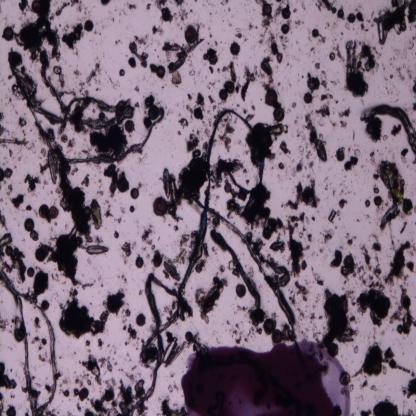Background material: (57, 164, 94, 244), (56, 284, 104, 338), (12, 14, 64, 63), (42, 229, 83, 289), (243, 183, 286, 235), (7, 49, 40, 108), (84, 381, 136, 416), (342, 38, 370, 98), (281, 173, 321, 210), (165, 37, 205, 74), (373, 160, 405, 206), (196, 276, 228, 322), (388, 284, 416, 336), (285, 220, 309, 280), (355, 288, 391, 328), (177, 154, 208, 200), (245, 121, 274, 168), (302, 112, 328, 164), (209, 156, 245, 190), (0, 242, 29, 284), (384, 241, 411, 286), (384, 0, 408, 36), (166, 175, 184, 222), (323, 286, 349, 318), (362, 340, 384, 374), (61, 19, 84, 50), (102, 287, 127, 315), (81, 353, 102, 386), (128, 35, 148, 69), (377, 204, 400, 232), (358, 41, 376, 75), (227, 187, 246, 219), (372, 394, 399, 416), (260, 54, 276, 91), (106, 163, 122, 198), (218, 118, 236, 149), (136, 341, 158, 366), (32, 268, 48, 301), (158, 398, 187, 416), (89, 197, 104, 230), (116, 98, 136, 122), (0, 362, 17, 390), (86, 60, 103, 84), (162, 261, 180, 283), (366, 118, 382, 142), (264, 30, 279, 55), (161, 41, 180, 60), (318, 226, 336, 246), (221, 60, 238, 81), (139, 222, 154, 245), (24, 173, 40, 194), (401, 377, 416, 399), (201, 48, 219, 66), (295, 280, 309, 303), (280, 322, 296, 342), (0, 137, 29, 148), (162, 298, 177, 318), (330, 249, 344, 270), (306, 71, 320, 92), (342, 261, 358, 279), (288, 213, 310, 226), (309, 266, 324, 285), (185, 131, 200, 150), (360, 243, 371, 268), (344, 155, 361, 171), (55, 0, 71, 17), (271, 240, 288, 256), (159, 7, 174, 25), (173, 247, 187, 266), (40, 50, 51, 74), (54, 64, 65, 88), (369, 233, 382, 253), (134, 379, 147, 399), (245, 325, 261, 341), (0, 317, 14, 335), (400, 41, 414, 59), (240, 80, 251, 102), (121, 240, 133, 260), (200, 243, 210, 266), (11, 193, 25, 209), (382, 346, 395, 363), (104, 198, 114, 219), (121, 369, 136, 383), (261, 13, 272, 32), (389, 122, 402, 138), (368, 280, 385, 292), (77, 80, 89, 97), (152, 250, 162, 270), (286, 286, 296, 306), (316, 104, 330, 118), (75, 371, 88, 386), (143, 92, 156, 107), (80, 278, 96, 290), (195, 92, 205, 111), (272, 3, 282, 22), (127, 323, 138, 340), (172, 70, 183, 87), (294, 126, 307, 140), (108, 75, 120, 90), (254, 237, 265, 253), (18, 0, 29, 16), (12, 326, 24, 340), (297, 306, 308, 321), (121, 308, 132, 323), (336, 44, 345, 62), (0, 213, 9, 231), (346, 290, 356, 306), (373, 264, 383, 280), (280, 140, 291, 154), (399, 147, 408, 164), (368, 150, 377, 167), (280, 34, 290, 49), (37, 354, 52, 364), (347, 325, 359, 337), (352, 366, 364, 378), (296, 157, 305, 173), (152, 24, 164, 36), (320, 93, 333, 104), (178, 234, 191, 245), (38, 162, 49, 175), (127, 55, 137, 69), (154, 0, 168, 10), (178, 8, 188, 22), (80, 173, 90, 187), (84, 6, 93, 21), (339, 106, 350, 118), (192, 148, 204, 159), (322, 0, 334, 11), (397, 364, 410, 374), (0, 123, 10, 136), (406, 260, 416, 273), (158, 106, 166, 122), (44, 408, 60, 416), (186, 103, 194, 119), (398, 408, 414, 416), (118, 270, 127, 284), (106, 355, 113, 373), (196, 22, 202, 43), (67, 136, 76, 150), (0, 391, 5, 416), (26, 142, 37, 153), (243, 65, 254, 76), (48, 128, 56, 143), (360, 108, 368, 123), (178, 118, 190, 128), (358, 274, 368, 286), (30, 230, 40, 242), (372, 46, 381, 59), (258, 31, 266, 45), (191, 230, 198, 246), (398, 67, 406, 81), (6, 183, 14, 197), (138, 405, 148, 416), (354, 11, 364, 22), (30, 389, 40, 400), (398, 210, 407, 222), (329, 208, 336, 223), (400, 220, 408, 233), (300, 331, 310, 341), (59, 378, 69, 388), (92, 164, 102, 174), (403, 106, 413, 116), (34, 318, 43, 329), (97, 337, 104, 351), (166, 381, 174, 393), (99, 357, 107, 369), (312, 331, 320, 343), (57, 300, 65, 312), (322, 79, 330, 91), (235, 304, 248, 311), (76, 0, 83, 13), (407, 14, 416, 24), (294, 18, 304, 27), (95, 235, 104, 245), (339, 119, 348, 129), (72, 68, 82, 77), (52, 272, 61, 282), (44, 384, 54, 393), (126, 2, 137, 10), (356, 266, 367, 274), (310, 321, 318, 332), (309, 311, 316, 323), (316, 0, 323, 12), (20, 116, 27, 128), (235, 80, 241, 94), (409, 244, 416, 256), (298, 144, 305, 156), (390, 239, 396, 253), (375, 205, 384, 214), (31, 336, 40, 345), (96, 188, 105, 197), (329, 119, 338, 128), (339, 199, 347, 209), (412, 78, 416, 98), (319, 34, 327, 44), (71, 166, 79, 176), (0, 166, 5, 182), (389, 359, 397, 369), (349, 314, 357, 324), (206, 81, 216, 89), (315, 292, 321, 305), (99, 0, 112, 6), (407, 68, 413, 81), (360, 409, 371, 416), (40, 146, 46, 158), (353, 148, 362, 156), (283, 0, 292, 8), (76, 400, 82, 412), (360, 380, 368, 389), (188, 68, 197, 76), (137, 180, 146, 188), (219, 263, 226, 273), (389, 226, 394, 240), (324, 176, 329, 190), (174, 0, 184, 7), (167, 332, 174, 342), (173, 12, 179, 23), (203, 141, 209, 152), (255, 0, 266, 6), (300, 262, 308, 270), (370, 384, 378, 392), (360, 23, 368, 31), (373, 326, 377, 342), (246, 114, 254, 122), (308, 26, 312, 42), (270, 311, 278, 319), (389, 57, 396, 66), (207, 66, 214, 75), (282, 124, 288, 134), (280, 161, 286, 171), (207, 117, 213, 127), (309, 160, 314, 172), (131, 240, 137, 250), (319, 117, 325, 127), (306, 150, 312, 160), (331, 78, 338, 86), (235, 32, 242, 40), (119, 8, 126, 16), (403, 274, 410, 282), (208, 95, 215, 103), (394, 47, 401, 55), (230, 54, 238, 61), (235, 336, 242, 344), (119, 207, 126, 215), (26, 204, 33, 212), (301, 0, 306, 11), (347, 238, 353, 247), (168, 107, 174, 116), (353, 345, 359, 354), (324, 21, 330, 30), (248, 22, 254, 31), (220, 0, 229, 6), (210, 245, 216, 254), (70, 0, 79, 6), (388, 293, 397, 299), (346, 143, 351, 153), (382, 365, 387, 375), (386, 191, 391, 201), (35, 381, 42, 388), (114, 38, 120, 46), (340, 180, 346, 188), (230, 329, 238, 335), (74, 389, 80, 397), (360, 98, 366, 106), (146, 2, 152, 10), (33, 209, 39, 217), (315, 62, 321, 70), (41, 337, 47, 345), (350, 383, 355, 392), (205, 127, 210, 136), (254, 65, 258, 76), (375, 62, 379, 73), (235, 27, 242, 33), (94, 30, 101, 36), (394, 98, 401, 104), (46, 217, 52, 224), (135, 101, 141, 108), (30, 374, 36, 381), (212, 103, 218, 110), (120, 68, 124, 78), (174, 224, 179, 232), (337, 146, 345, 151), (374, 186, 379, 194), (381, 63, 386, 71), (339, 242, 344, 250), (0, 112, 5, 120), (135, 86, 140, 94), (217, 101, 225, 106), (243, 107, 248, 115), (8, 149, 13, 157), (368, 273, 373, 281), (374, 255, 379, 263), (308, 234, 313, 242), (234, 115, 239, 123), (241, 38, 249, 43), (56, 372, 61, 380), (412, 101, 416, 111), (116, 217, 122, 223), (367, 265, 373, 271), (49, 14, 55, 20), (370, 10, 374, 19), (380, 330, 386, 336), (64, 390, 70, 396), (186, 94, 192, 100), (389, 73, 394, 80), (174, 384, 179, 391), (67, 411, 74, 416), (321, 70, 326, 77), (150, 39, 155, 46), (53, 220, 58, 227), (85, 339, 90, 346), (332, 190, 336, 198), (189, 58, 193, 66), (22, 128, 26, 136), (346, 22, 350, 30), (245, 177, 249, 185), (58, 354, 63, 360), (151, 244, 156, 250), (310, 46, 315, 52), (10, 394, 16, 399), (383, 135, 388, 141), (383, 75, 388, 81), (206, 108, 211, 114), (16, 157, 22, 162), (292, 7, 297, 13), (43, 180, 48, 186), (291, 102, 296, 108), (37, 346, 43, 351), (214, 41, 219, 47), (140, 289, 144, 296), (346, 231, 350, 238), (312, 250, 316, 257), (251, 105, 255, 112), (337, 210, 341, 217), (412, 371, 416, 378), (322, 324, 326, 331), (207, 3, 214, 7), (304, 304, 309, 309), (244, 150, 249, 155), (352, 235, 357, 240), (235, 103, 240, 108), (105, 344, 110, 349), (306, 279, 309, 287), (366, 214, 370, 220), (413, 156, 416, 164), (318, 315, 322, 321), (413, 205, 416, 213), (88, 378, 91, 386), (287, 108, 291, 114), (378, 10, 382, 16), (238, 139, 242, 145), (288, 81, 292, 87), (100, 282, 104, 288), (286, 61, 290, 67), (178, 130, 182, 136), (202, 120, 206, 126), (145, 32, 149, 38), (142, 246, 146, 252), (123, 324, 127, 330), (202, 22, 206, 28), (125, 340, 129, 346), (373, 18, 377, 24), (353, 130, 355, 141), (102, 23, 105, 30), (348, 252, 352, 257), (340, 189, 344, 194), (356, 217, 360, 222), (339, 31, 344, 35), (277, 82, 281, 87), (14, 110, 18, 115), (388, 287, 392, 292), (344, 280, 348, 285), (141, 340, 146, 344), (336, 99, 340, 104), (78, 359, 82, 364), (50, 190, 54, 195), (235, 323, 240, 327), (228, 22, 232, 27), (332, 45, 336, 50), (303, 227, 307, 232), (294, 120, 299, 124), (412, 35, 416, 40), (209, 33, 212, 39), (242, 170, 248, 173), (76, 50, 79, 56), (102, 52, 105, 58), (218, 68, 221, 74), (115, 360, 118, 366), (112, 17, 115, 23), (114, 8, 118, 12), (13, 164, 17, 168), (87, 349, 91, 353), (348, 190, 352, 194), (296, 40, 300, 44), (0, 198, 4, 202), (334, 226, 338, 230), (98, 180, 102, 184), (8, 98, 12, 102), (319, 249, 323, 253), (143, 110, 147, 114), (92, 5, 96, 9), (408, 211, 412, 215), (403, 283, 408, 286), (228, 7, 231, 12), (413, 23, 416, 28), (353, 273, 356, 278), (390, 90, 393, 95), (193, 0, 198, 3), (96, 87, 99, 92), (190, 9, 193, 14), (89, 38, 92, 43), (371, 23, 374, 28), (364, 375, 367, 379), (161, 86, 164, 90), (119, 18, 121, 24), (361, 164, 364, 168), (385, 86, 388, 90), (312, 306, 316, 309), (344, 175, 348, 178), (255, 26, 258, 30), (232, 14, 235, 18), (353, 192, 356, 196), (157, 54, 160, 58), (178, 113, 181, 117), (314, 50, 316, 56), (74, 351, 76, 356), (4, 180, 6, 185), (414, 398, 416, 403), (181, 26, 183, 31), (148, 254, 150, 259), (178, 22, 180, 27), (125, 54, 128, 57), (95, 22, 98, 25), (355, 8, 358, 11), (207, 42, 210, 45), (317, 252, 319, 256), (385, 146, 387, 150), (414, 221, 416, 225), (387, 90, 389, 94), (334, 22, 336, 26), (209, 27, 211, 31), (302, 75, 304, 79), (220, 40, 222, 44), (313, 218, 315, 222), (386, 203, 388, 207), (218, 79, 220, 83), (176, 103, 178, 107), (345, 193, 348, 195), (297, 80, 300, 82), (369, 221, 371, 224), (368, 20, 371, 22), (364, 169, 366, 172), (154, 48, 156, 51), (402, 352, 404, 355), (339, 218, 341, 221), (299, 49, 301, 52), (258, 75, 260, 78), (114, 351, 116, 354), (30, 129, 32, 132), (392, 66, 394, 68), (313, 280, 314, 284), (224, 10, 226, 12), (335, 38, 337, 40), (253, 9, 255, 11), (206, 0, 208, 2), (155, 127, 157, 129), (370, 196, 372, 198), (351, 181, 353, 183), (244, 4, 246, 6), (260, 98, 262, 100), (330, 182, 332, 184), (250, 17, 252, 19), (342, 169, 343, 172), (183, 102, 184, 104), (223, 20, 224, 22), (415, 53, 416, 55), (210, 13, 211, 15), (298, 74, 299, 76), (203, 4, 204, 6), (390, 248, 391, 250), (4, 164, 5, 166), (415, 297, 416, 298)
Cellulose filter fibre: (207, 204, 296, 326), (128, 270, 192, 416), (0, 264, 39, 416), (22, 291, 62, 416), (210, 227, 263, 311), (60, 121, 158, 164), (33, 95, 121, 124), (367, 104, 416, 154), (42, 63, 68, 117)
Cotton: (163, 104, 265, 328)
Diatom: (328, 312, 348, 336), (162, 336, 178, 362), (167, 343, 184, 366), (48, 152, 58, 186), (376, 16, 387, 45), (153, 196, 167, 217), (86, 244, 108, 256), (265, 89, 278, 107), (162, 169, 170, 198), (272, 106, 286, 121), (117, 177, 130, 193), (266, 124, 283, 136), (185, 26, 197, 43), (371, 360, 383, 376), (271, 329, 283, 344), (34, 247, 46, 262), (24, 218, 36, 233), (123, 119, 135, 134), (148, 105, 159, 121), (263, 318, 275, 332), (253, 308, 264, 323), (236, 283, 246, 299), (0, 232, 12, 245), (3, 26, 14, 40), (31, 0, 42, 14), (341, 370, 351, 384), (39, 204, 49, 218), (156, 65, 166, 79), (225, 81, 235, 94), (281, 7, 291, 20), (231, 42, 240, 56), (263, 226, 272, 240), (346, 12, 356, 24), (408, 0, 416, 15), (136, 314, 146, 326), (262, 3, 272, 15), (49, 206, 59, 218), (404, 197, 413, 210), (344, 256, 354, 267), (303, 92, 313, 103), (143, 117, 153, 128), (373, 194, 382, 206), (219, 88, 228, 100), (84, 20, 93, 32), (5, 245, 14, 257), (135, 257, 144, 269), (281, 23, 290, 35), (40, 300, 50, 310), (184, 331, 194, 341), (4, 168, 14, 178), (6, 407, 17, 416), (193, 108, 202, 119), (130, 188, 139, 199), (80, 387, 89, 398), (100, 312, 108, 322), (276, 52, 282, 64), (27, 268, 35, 277), (84, 205, 91, 215), (224, 184, 232, 192), (337, 152, 345, 160), (196, 264, 203, 273), (397, 324, 403, 334), (338, 10, 345, 18), (312, 29, 319, 37), (330, 51, 336, 60), (62, 134, 68, 142), (342, 267, 348, 274), (130, 205, 135, 213), (114, 232, 119, 239), (332, 7, 337, 13), (366, 200, 370, 206), (251, 76, 255, 82), (275, 0, 282, 3), (247, 76, 251, 81)
Pen: (182, 337, 353, 416)
